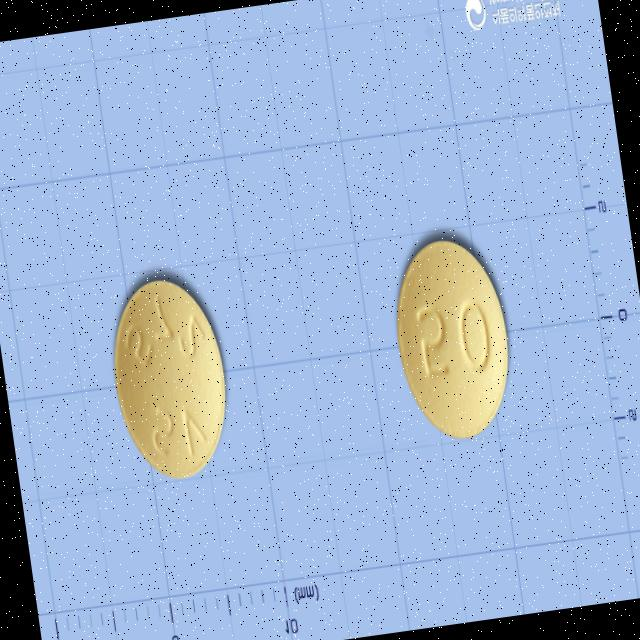Tivicay Tab: (384, 228, 522, 448), (101, 272, 240, 490)
